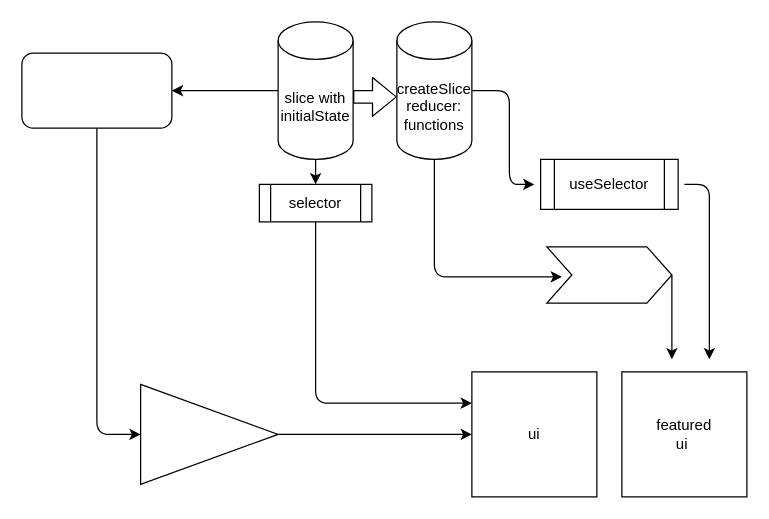
The diagram is 769 pixels wide and 519 high, and some of its shapes have lost their labels. The shapes that lost their labels are listed below. From the top down, each one's centre as x and y in pixels, then its label:
At pixel 96 90: "configureStore reducers".
At pixel 609 274: "useDispatch".
At pixel 208 433: "provider from react-redux".
